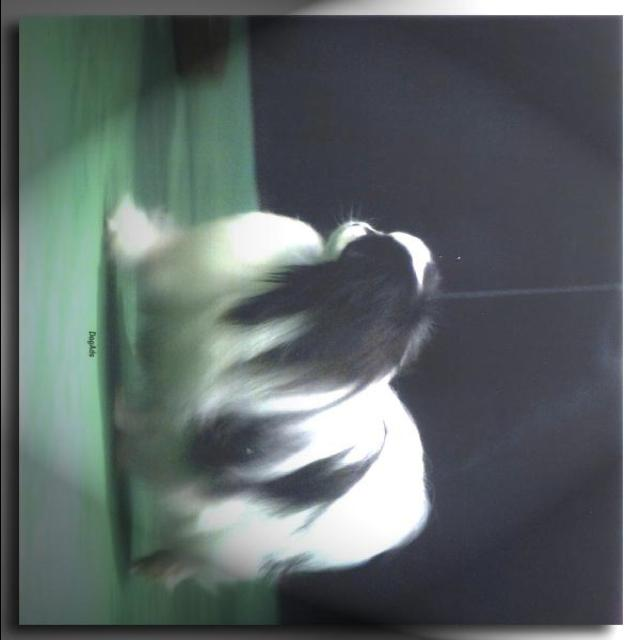husky: (98, 185, 450, 600)
